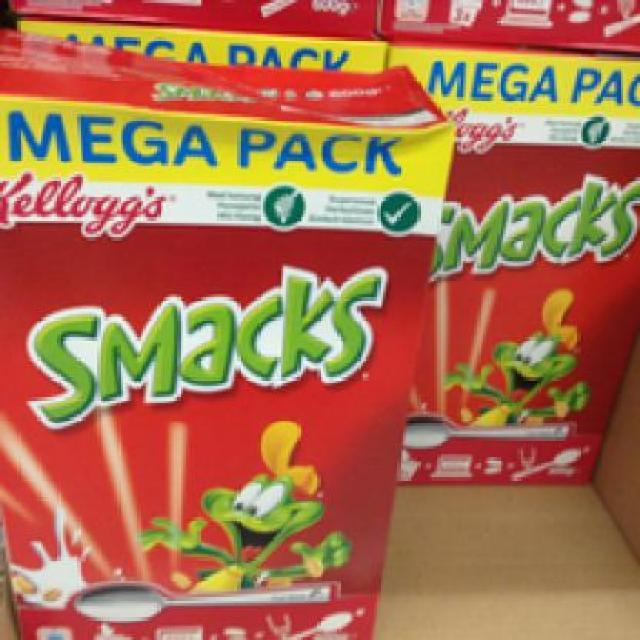Cereal: (0, 33, 455, 638)
